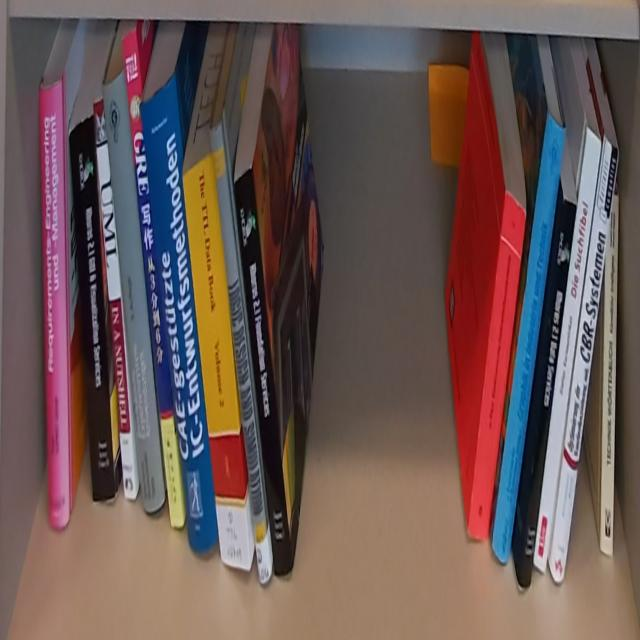Book Spine: (141, 76, 220, 555), (491, 107, 566, 568), (118, 27, 186, 535), (530, 124, 604, 574), (180, 148, 252, 570), (550, 133, 617, 582), (210, 122, 273, 590), (100, 68, 164, 515), (230, 174, 294, 578), (515, 199, 577, 587), (465, 187, 528, 545), (91, 96, 136, 500), (69, 120, 115, 498), (36, 87, 71, 534), (601, 190, 622, 560)
